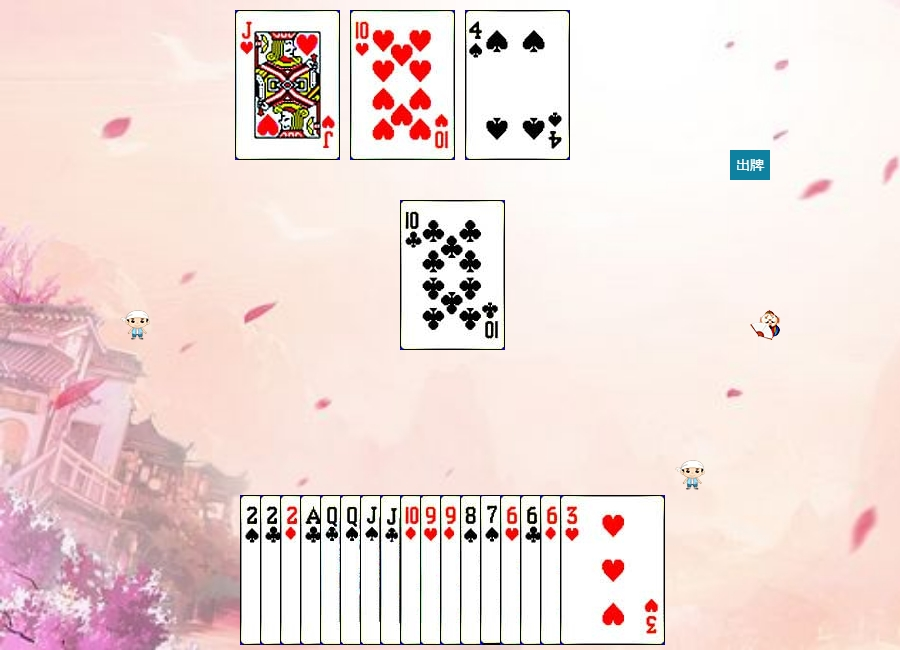10~1: (400, 495, 505, 645)
10~2: (400, 200, 505, 350)
10~3: (350, 10, 455, 160)
11~2: (380, 495, 485, 645)
11~3: (235, 10, 340, 160)
11~4: (360, 495, 465, 645)
12~2: (320, 495, 425, 645)
12~4: (340, 495, 445, 645)
14~2: (300, 495, 405, 645)
15~1: (280, 495, 385, 645)
15~2: (260, 495, 365, 645)
15~4: (240, 495, 345, 645)
3~3: (560, 495, 665, 645)
4~4: (465, 10, 570, 160)
6~1: (540, 495, 645, 645)
6~2: (520, 495, 625, 645)
6~3: (500, 495, 605, 645)
7~4: (480, 495, 585, 645)
8~4: (460, 495, 565, 645)
9~1: (440, 495, 545, 645)
9~3: (420, 495, 525, 645)
